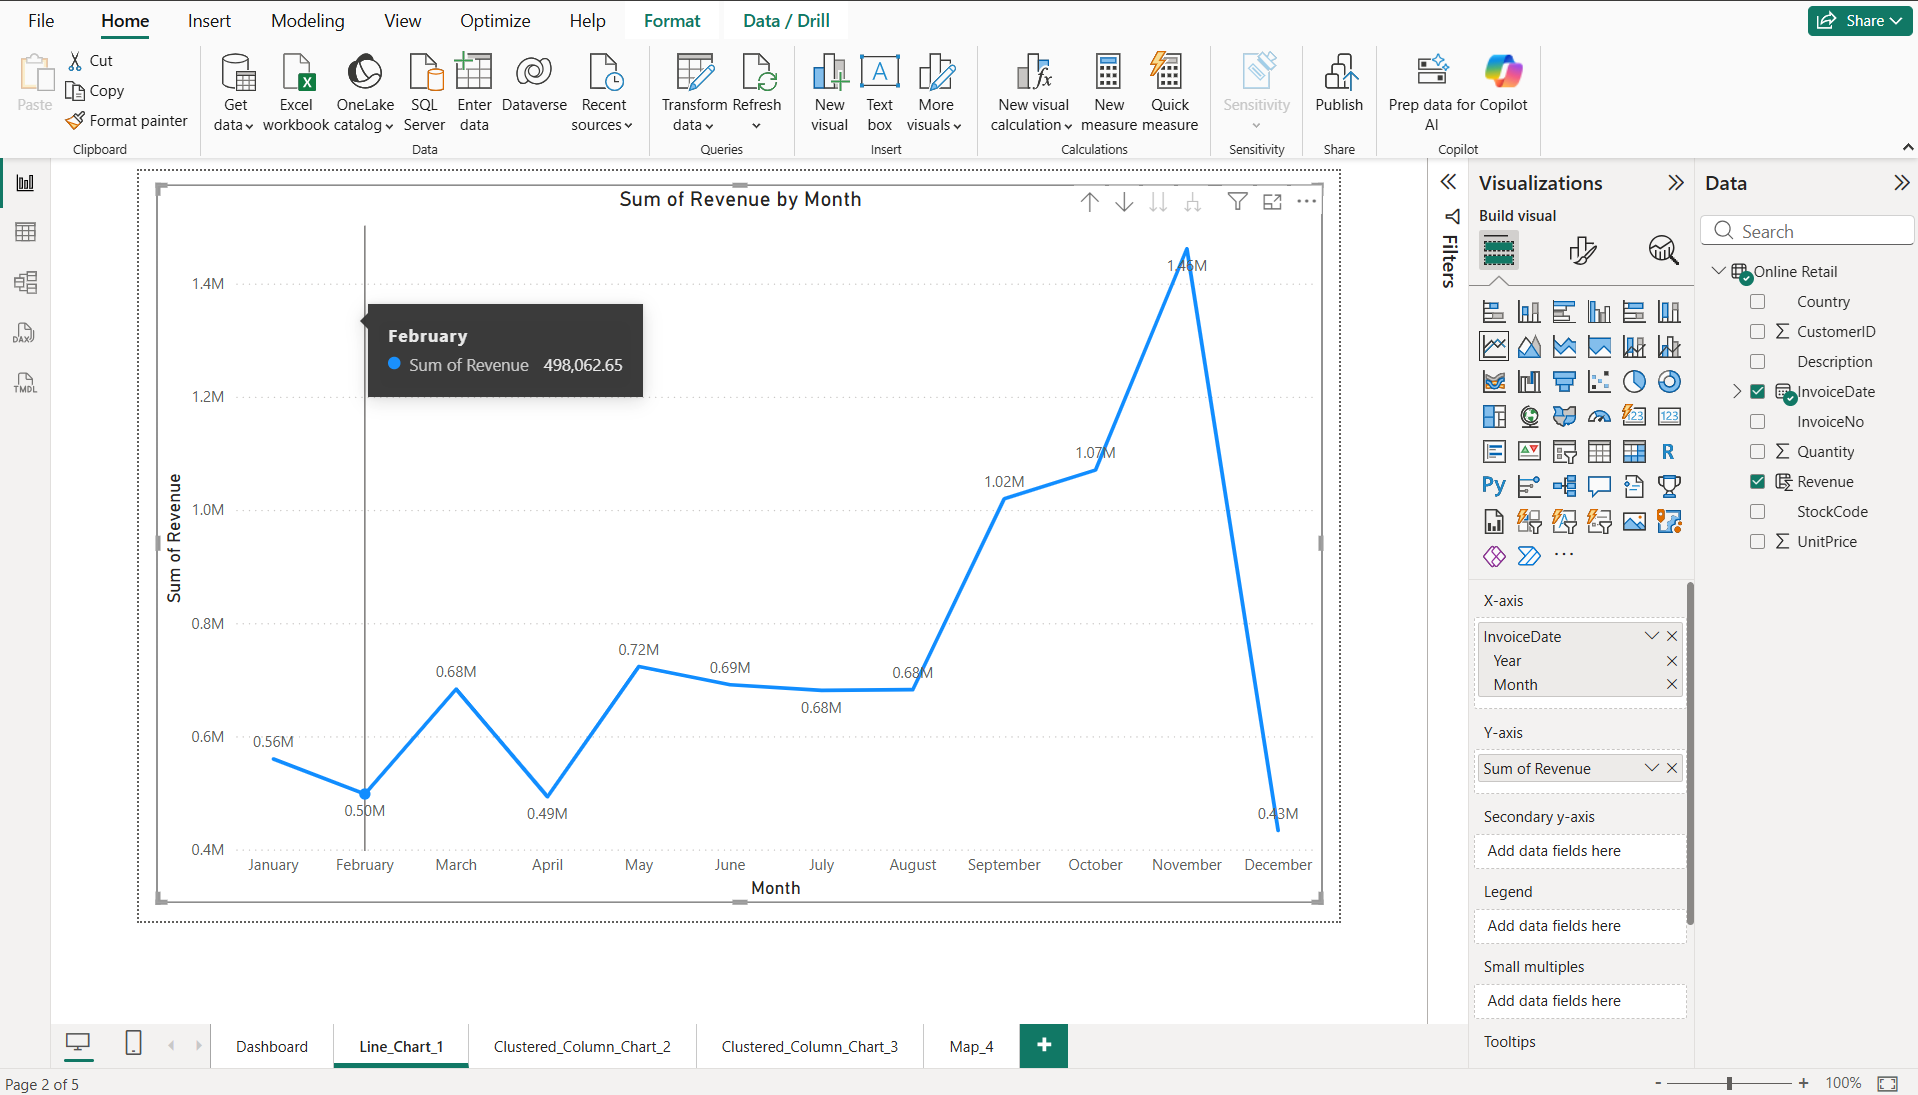

This screenshot's page, from the dashboard's own definition file:
{"tool":"powerbi","page":{"name":"Line_Chart_1","canvas":[960,600],"ordinal":1},"visuals":[{"type":"lineChart","fields":{"Category":["Online Retail.InvoiceDate.Variation.Date Hierarchy.Year","Online Retail.InvoiceDate.Variation.Date Hierarchy.Month"],"Y":["Sum(Online Retail.Revenue)"]},"box":[14,11,933,575],"z":0}]}

Visuals, with their boxes on the page's 960x600 design canvas (x1, y1, x2, y2). These are canvas units, not pixel positions in the 1918x1095 screenshot, which may show the page scaled, cropped or inside an application window:
lineChart - Online Retail.InvoiceDate.Variation.Date Hierarchy.Year x Online Retail.InvoiceDate.Variation.Date Hierarchy.Month: {"left": 14, "top": 11, "right": 947, "bottom": 586}
